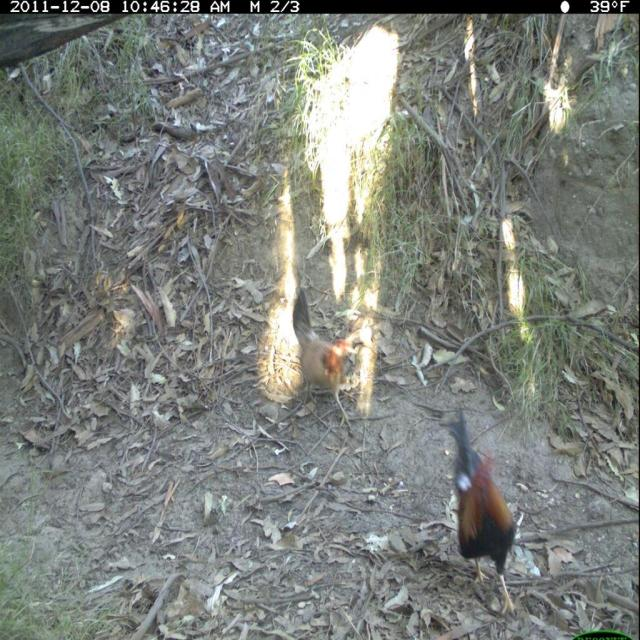bird: (439, 405, 523, 620), (291, 283, 359, 437)
